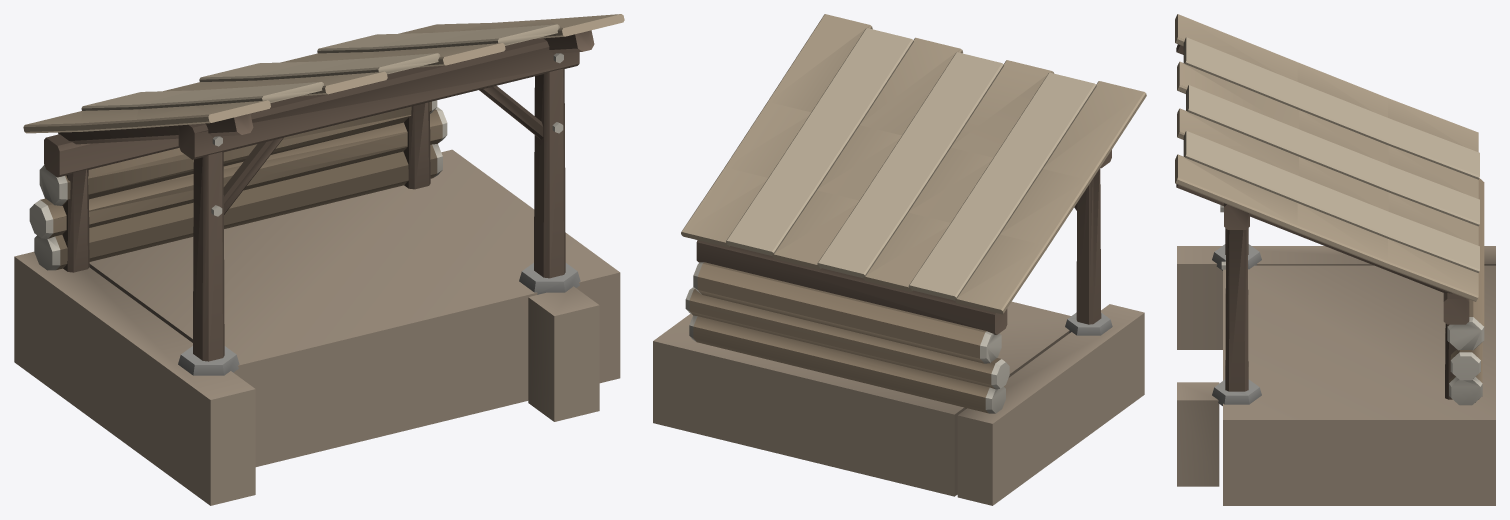
Rendered from leanto.glb.
The picture shows the model from 3 angles, left to right: view 1: azimuth 30°, elevation 25°; view 2: azimuth 150°, elevation 25°; view 3: azimuth 270°, elevation 25°; orthographic projection. The views are drawn at different scales.
Parts seen in each view (by area): view 1: leanto; view 2: leanto; view 3: leanto.
Boxes of the visible parts, left/top/right/bottom form: leanto: left=14, top=14, right=624, bottom=505; leanto: left=653, top=14, right=1146, bottom=505; leanto: left=1175, top=14, right=1495, bottom=505.
Size of the model in its own units: 4.48 by 3.81 by 3.48.
